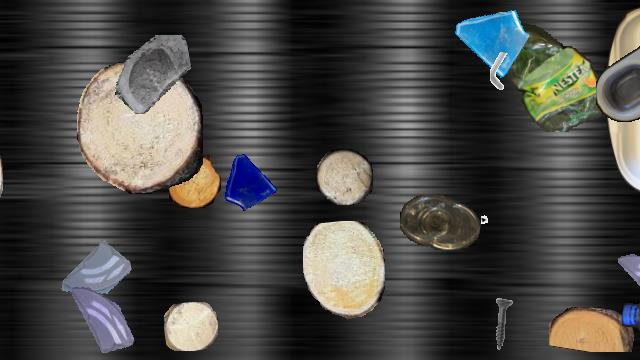glass: (451, 1, 529, 79), (113, 35, 191, 113), (64, 285, 138, 359), (59, 238, 131, 310), (219, 151, 279, 211), (618, 248, 640, 312)
metal: (474, 297, 530, 353), (480, 52, 520, 92), (481, 206, 519, 244)
plastic: (476, 12, 606, 132), (606, 1, 640, 197), (400, 195, 480, 249), (596, 36, 640, 122), (622, 292, 640, 346)
wood: (77, 61, 203, 193), (303, 221, 385, 319), (549, 307, 635, 351), (317, 149, 373, 205), (168, 155, 220, 207), (164, 302, 218, 350), (0, 119, 2, 225)
